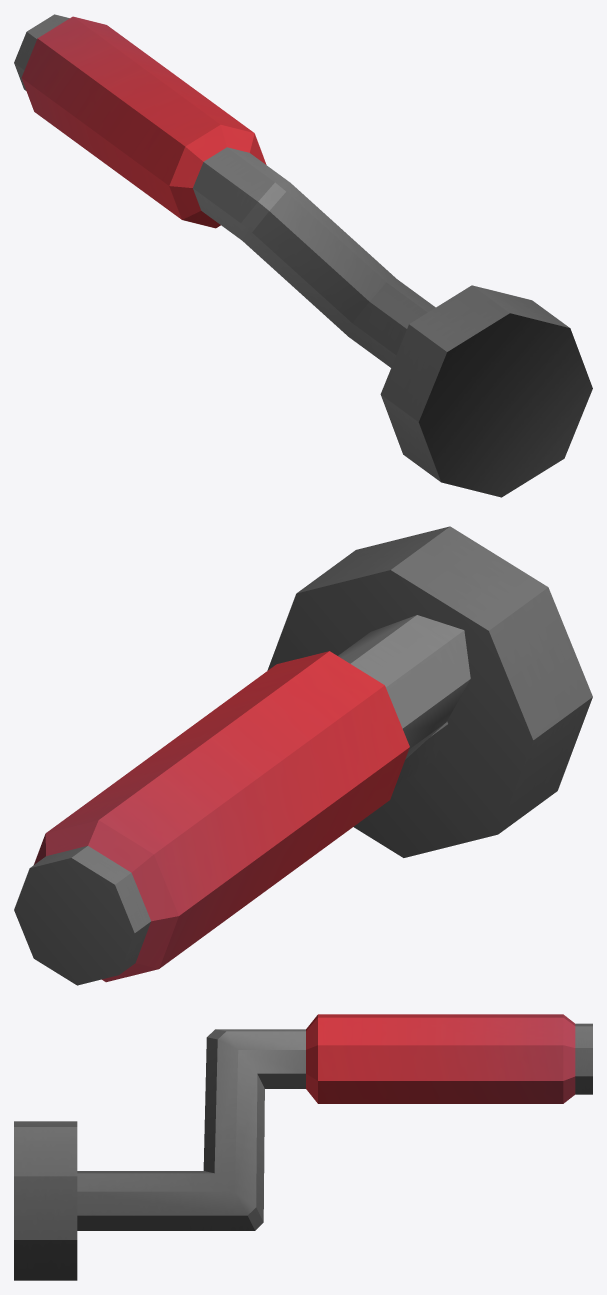
Rendered from handle.fbx.
3 views of the same model, one above another, from view 1: azimuth 30°, elevation 25°; view 2: azimuth 150°, elevation 25°; view 3: azimuth 270°, elevation 25° (orthographic). The views are drawn at different scales.
Parts seen in each view (by area): view 1: handle; view 2: handle; view 3: handle.
Boxes of the visible parts, x1=… form: handle: x1=14, y1=14, x2=592, y2=497; handle: x1=14, y1=526, x2=592, y2=985; handle: x1=14, y1=1014, x2=592, y2=1280.
Bounding box in the file's own units: 0.4768 × 0.4976 × 1.2.
